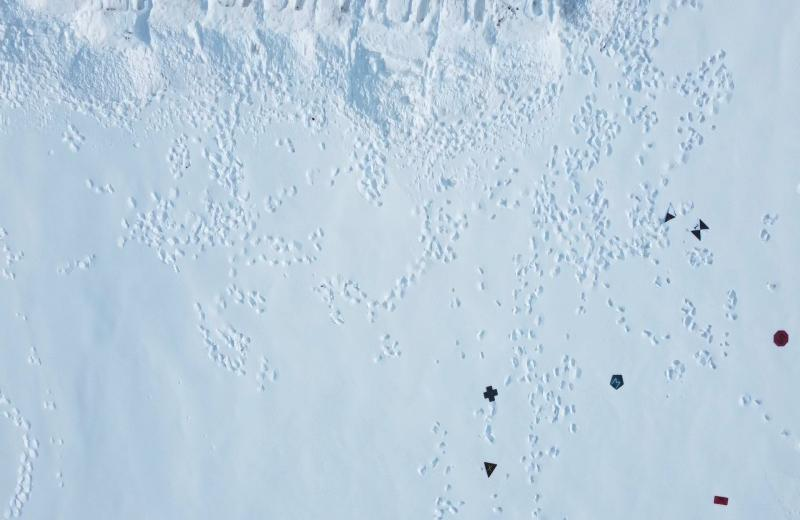Cross: (481, 385, 500, 404)
Octagon: (772, 328, 790, 349)
Pentagon: (609, 373, 625, 391)
Rectangle: (712, 493, 730, 508)
Triangle: (482, 460, 498, 480)
